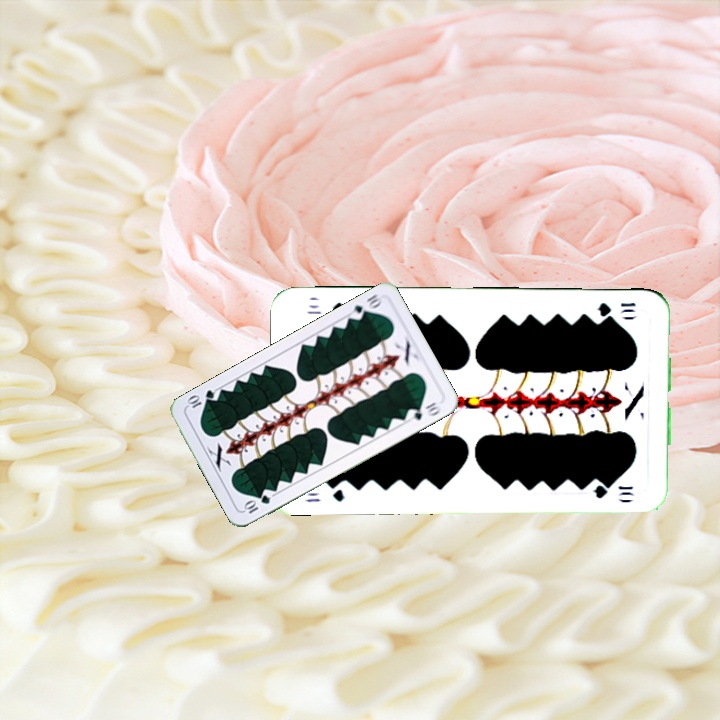G10: (346, 290, 384, 323), (301, 479, 347, 505), (594, 298, 638, 319), (240, 491, 273, 516)
